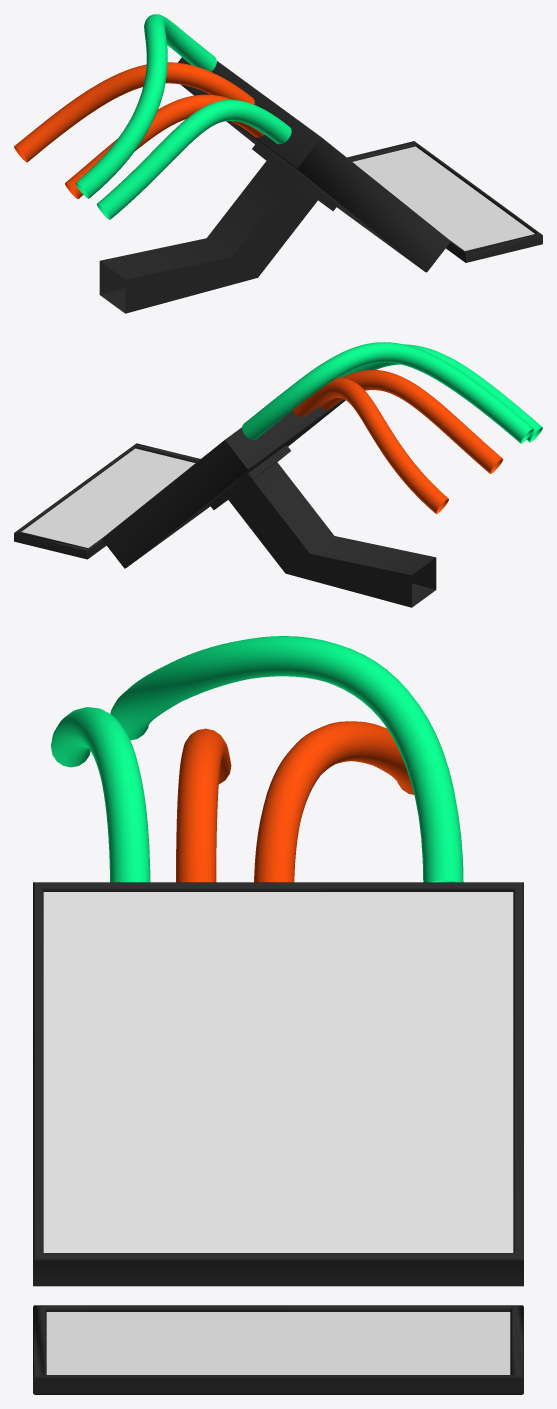
Rendered from terminal.glb.
The picture shows the model from 3 angles, top to bottom: view 1: azimuth 30°, elevation 25°; view 2: azimuth 150°, elevation 25°; view 3: azimuth 270°, elevation 25°; orthographic projection. The views are drawn at different scales.
Parts seen in each view (by area): view 1: Cube, screen2, cable.002, cable, cable.003, cable.001; view 2: Cube, screen2, cable.002, cable.003, cable.001, cable; view 3: screen, Cube, screen2, cable.002, cable.003, cable, cable.001.
Part boxes in pixels (x1,y1,x2,y2): Cube: (99,57,542,313); screen2: (353,146,534,250); cable.002: (75,14,216,198); cable: (96,99,291,219); cable.003: (14,62,254,162); cable.001: (65,94,264,198); Cube: (14,399,436,607); screen2: (21,448,195,547); cable.002: (242,342,533,443); cable.003: (292,377,448,513); cable.001: (320,370,503,473); cable: (337,344,542,442); screen: (43,892,513,1252); Cube: (33,882,523,1394); screen2: (46,1312,510,1374); cable.002: (110,636,463,882); cable.003: (254,721,413,882); cable: (51,707,150,882); cable.001: (176,728,231,882).
Bounding box in the file's own units: 4.8 × 2.71 × 2.43.
